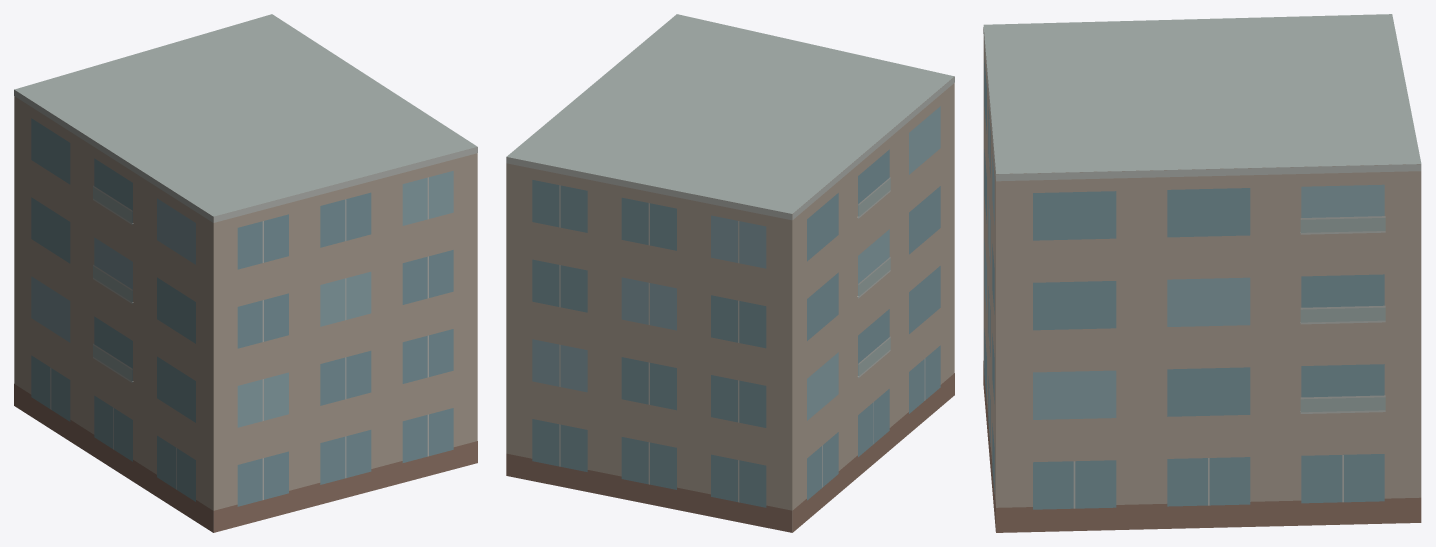
File: survey-upis-33006633.glb
The picture shows the model from 3 angles, left to right: view 1: azimuth 30°, elevation 25°; view 2: azimuth 150°, elevation 25°; view 3: azimuth 270°, elevation 25°; orthographic projection. The views are drawn at different scales.
Parts seen in each view (by area): view 1: survey-upis-33006633.tmp; view 2: survey-upis-33006633.tmp; view 3: survey-upis-33006633.tmp.
Part boxes in pixels (left/top/right/bottom): survey-upis-33006633.tmp: left=14, top=14, right=477, bottom=532; survey-upis-33006633.tmp: left=506, top=14, right=954, bottom=532; survey-upis-33006633.tmp: left=983, top=14, right=1421, bottom=532.
Bounding box in the file's own units: 11.69 × 12.2 × 13.51.
